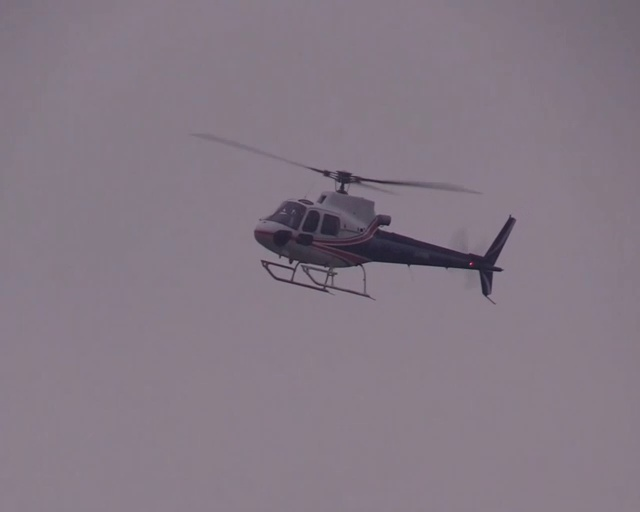HELICOPTER: (185, 127, 513, 304)
